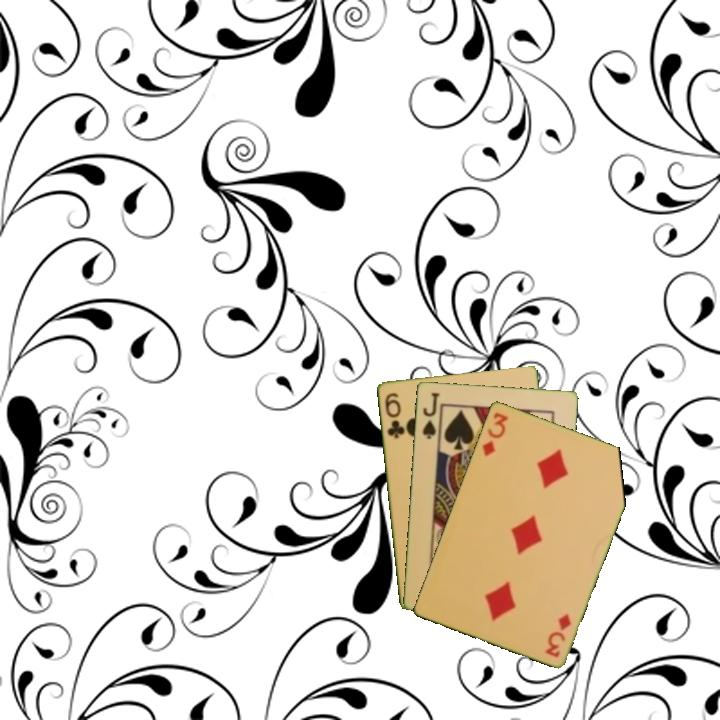3d: (478, 408, 511, 459), (541, 610, 574, 660)
6c: (381, 389, 407, 441)
Js: (419, 389, 442, 441)
